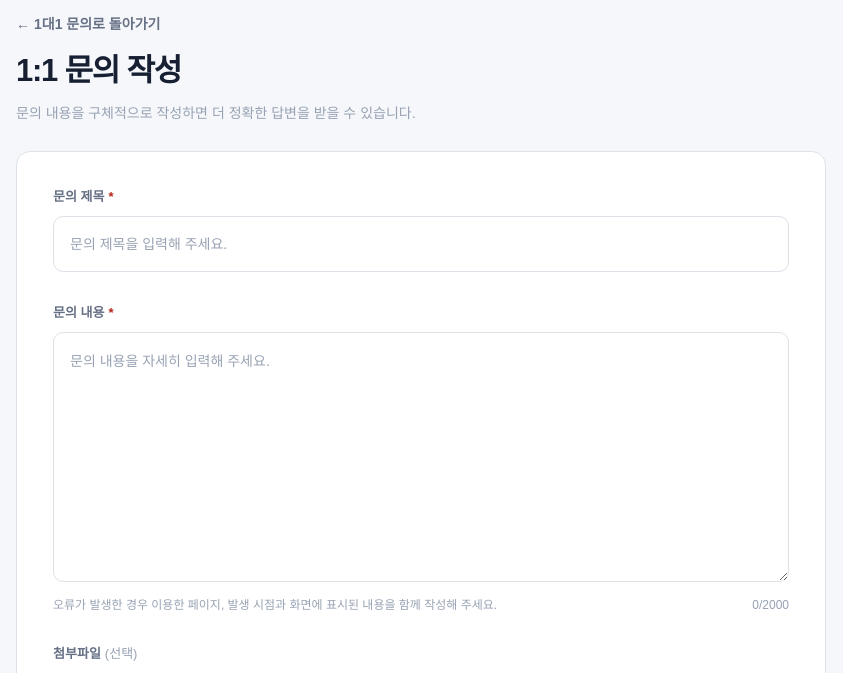
Scenario: InquiryForm › 필수값을 입력해야 문의 접수 버튼을 활성화한다
The image size is (843, 673).
In the field labelled "문의 제목*": (421, 244) [53,216,789,272], type "  계약 문의  "
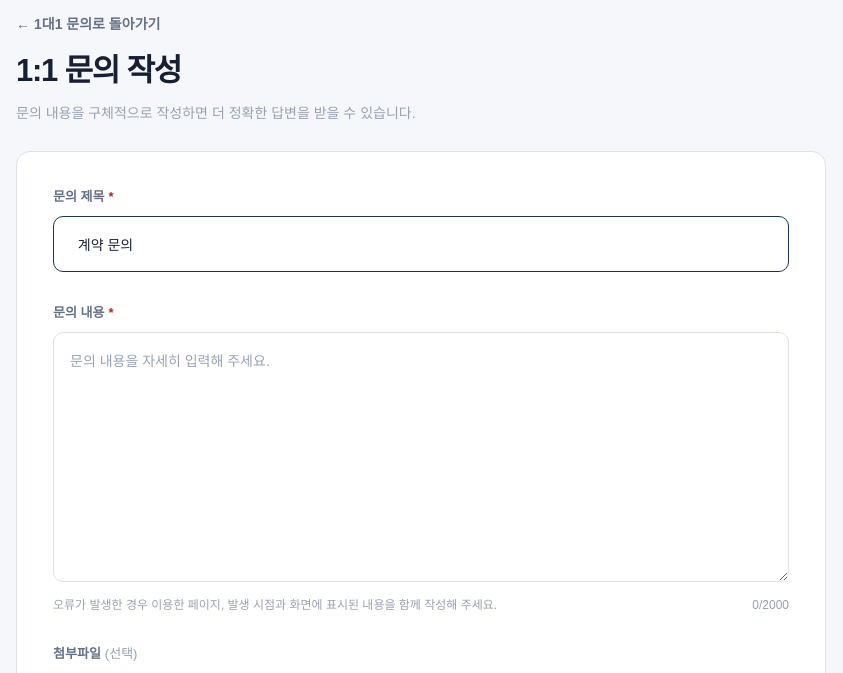
In the text box labelled "문의 내용*": (421, 456) [53,332,789,582], type "  계약 상태를 확인해 주세요.  "
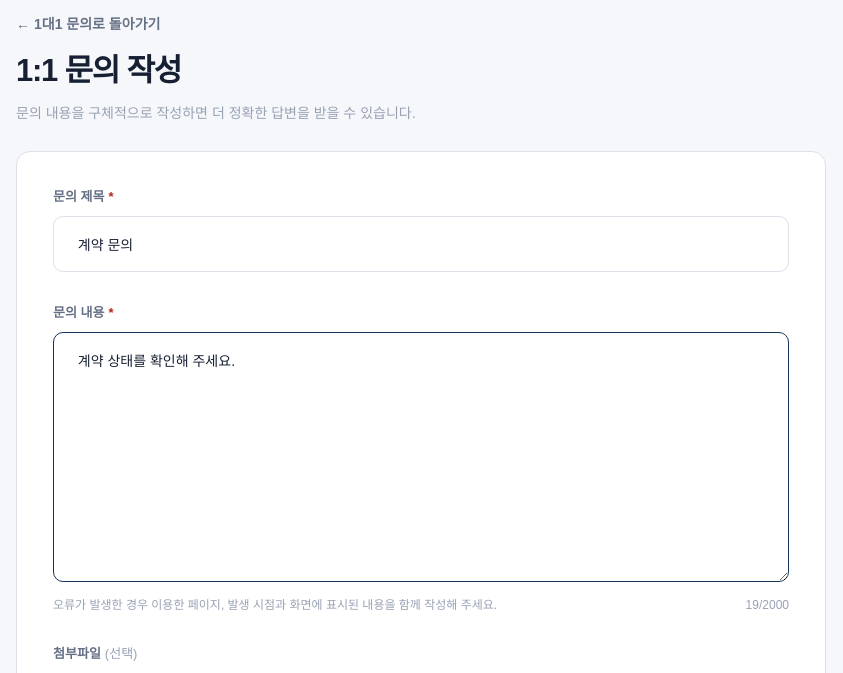
Check: the text "19/2000" is shown, box [746,596,789,612]
